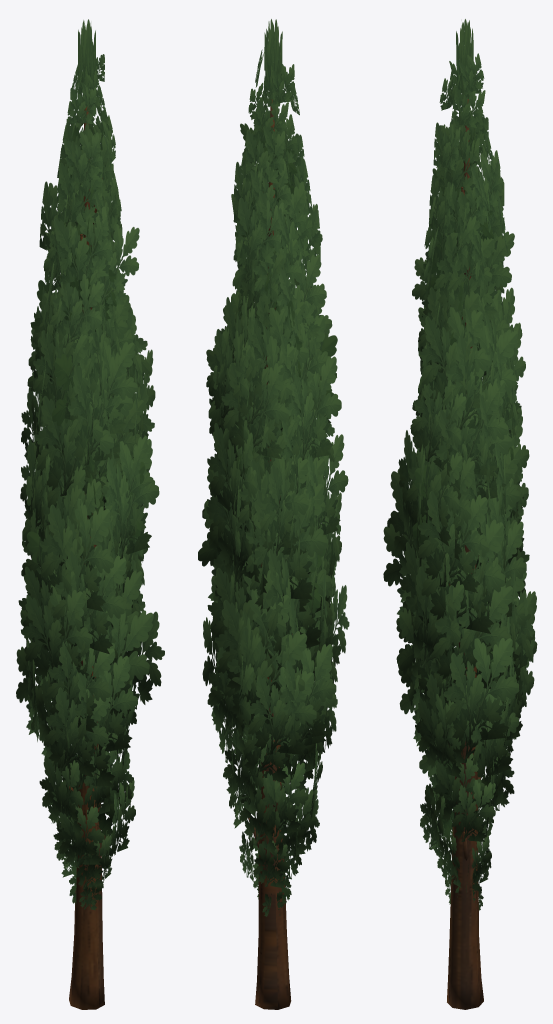
Rendered from tree_cypress_med.glb.
3 views of the same model, side by side, from view 1: azimuth 30°, elevation 25°; view 2: azimuth 150°, elevation 25°; view 3: azimuth 270°, elevation 25° (orthographic).
Visible parts, largest first — view 1: TreeCanopy_Cypress, TreeBark_Cypress; view 2: TreeCanopy_Cypress, TreeBark_Cypress; view 3: TreeCanopy_Cypress, TreeBark_Cypress.
Boxes of the visible parts, box(x1,y1,x2,y2) form: TreeCanopy_Cypress: box(16, 19, 164, 910); TreeBark_Cypress: box(69, 106, 105, 1009); TreeCanopy_Cypress: box(198, 19, 349, 916); TreeBark_Cypress: box(248, 99, 292, 1009); TreeCanopy_Cypress: box(383, 19, 537, 910); TreeBark_Cypress: box(447, 99, 483, 1009).
Bounding box in the file's own units: 1.48 × 9.59 × 1.39.
Materials: 2 (2 with a texture image).
